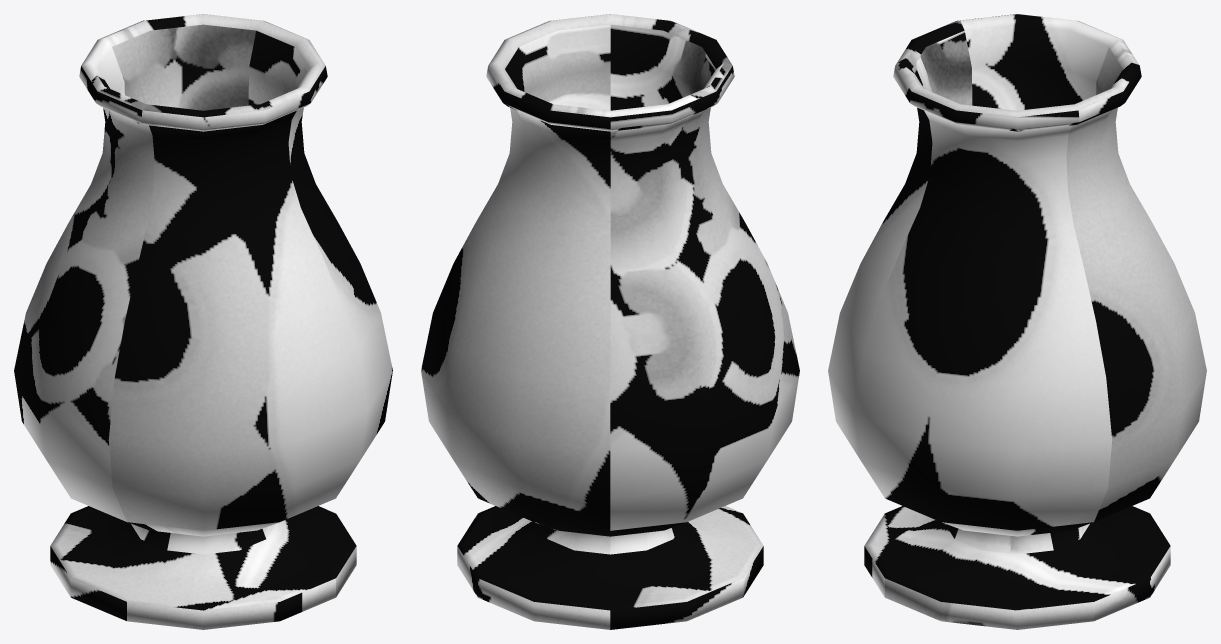
The model's file is Vase.fbx.
The picture shows the model from 3 angles, left to right: view 1: azimuth 30°, elevation 25°; view 2: azimuth 150°, elevation 25°; view 3: azimuth 270°, elevation 25°; orthographic projection.
Parts seen in each view (by area): view 1: vase; view 2: vase; view 3: vase.
Part boxes in pixels (x1,y1,x2,y2): vase: [14, 14, 392, 629]; vase: [421, 14, 799, 629]; vase: [828, 14, 1206, 629].
Bounding box in the file's own units: 100 × 147 × 100.
